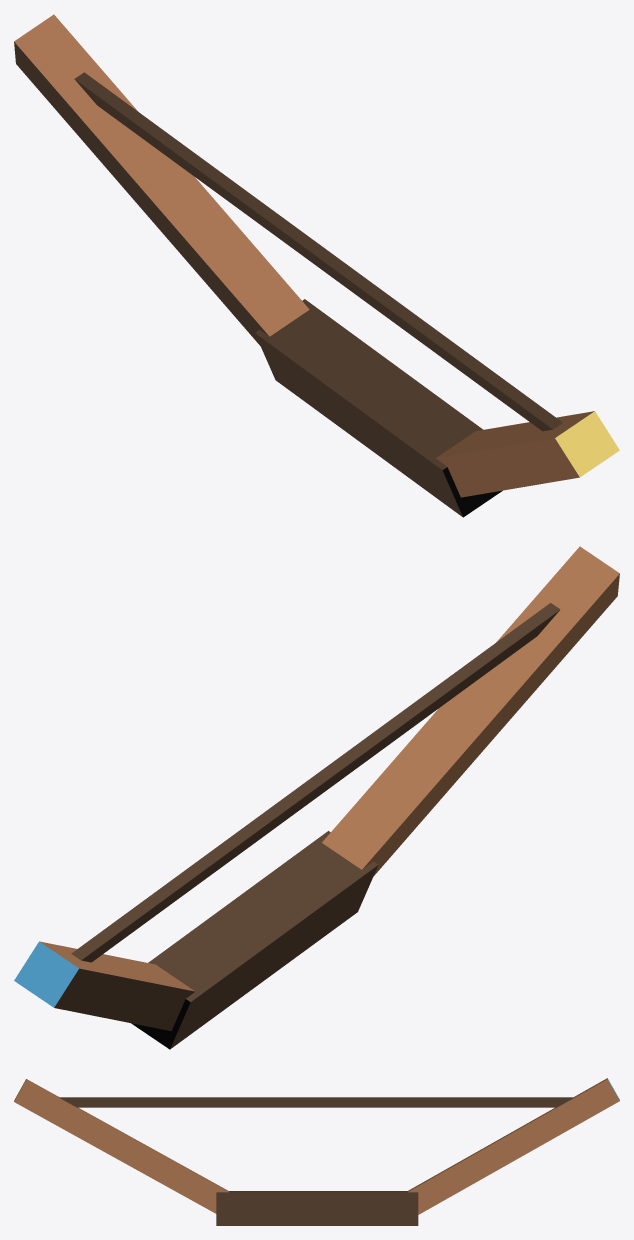
The model's file is bow.gltf.
3 views of the same model, one above another, from view 1: azimuth 30°, elevation 25°; view 2: azimuth 150°, elevation 25°; view 3: azimuth 270°, elevation 25° (orthographic). The views are drawn at different scales.
Parts seen in each view (by area): view 1: cube (×4); view 2: cube (×4); view 3: cube (×4).
Boxes of the visible parts, <box> form: cube (×4): <box>14,14,619,517</box>; cube (×4): <box>14,546,619,1049</box>; cube (×4): <box>14,1078,619,1225</box>.
Bounding box in the file's own units: 0.3127 × 0.5469 × 2.25.
1 material, 1 textured.
